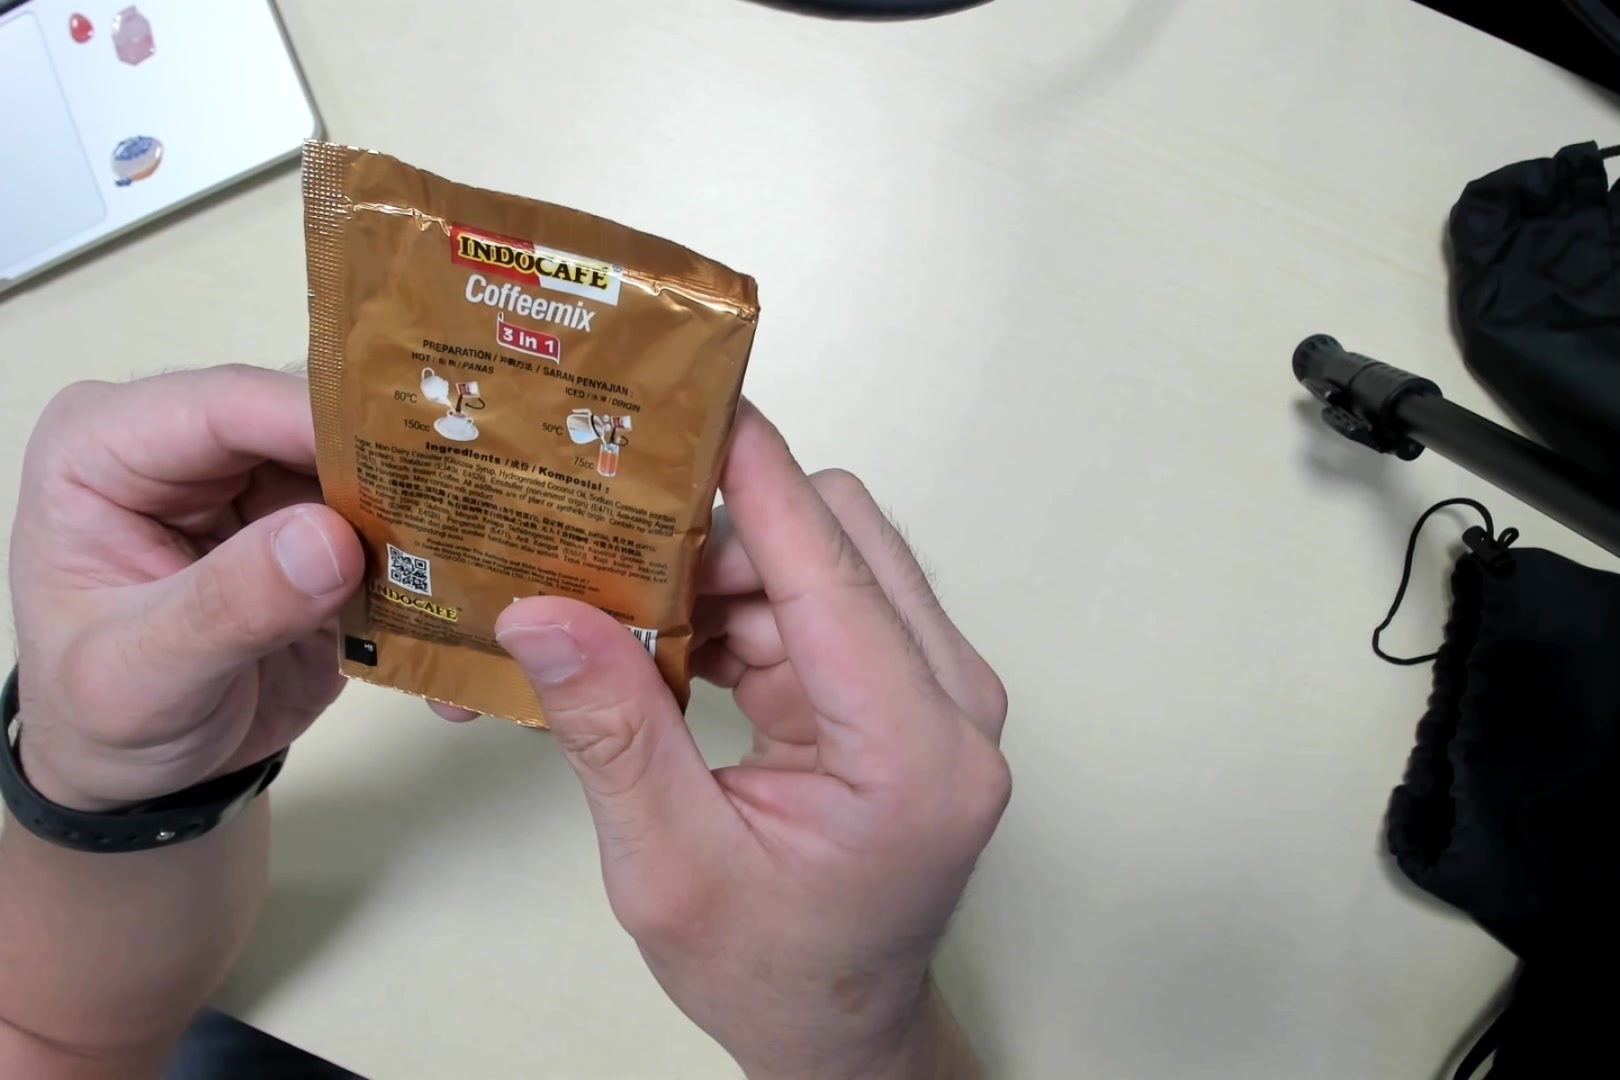Coffee(Powder)_0-99g_NonHalal_NonHealthy: (290, 141, 751, 745)
